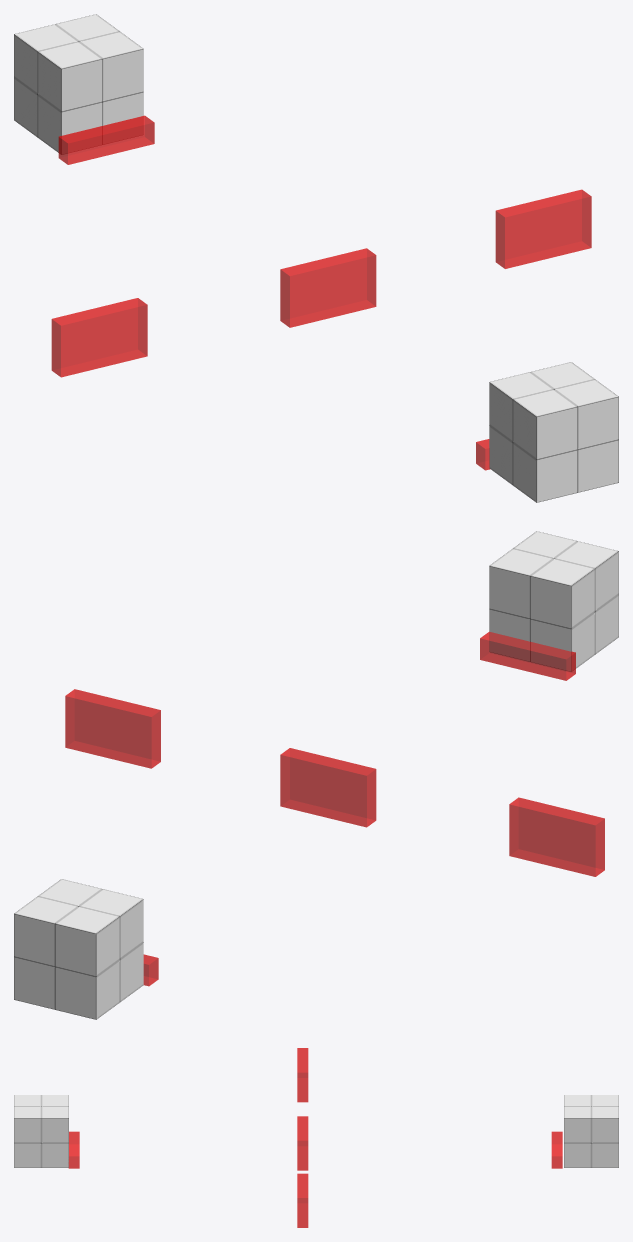
3 renders of one model, top to bottom at view 1: azimuth 30°, elevation 25°; view 2: azimuth 150°, elevation 25°; view 3: azimuth 270°, elevation 25°, orthographic. The views are drawn at different scales.
Parts seen in each view (by area): view 1: Plane/BasicEnvironment/StartCube-1, Plane/BasicEnvironment/StartCube-2, Plane/Setting1/BlockingCube, Plane/Setting1/BlockingCube (2), Plane/Setting1/BlockingCube (1), Plane/Setting1/StartBlocker-1; view 2: Plane/BasicEnvironment/StartCube-2, Plane/BasicEnvironment/StartCube-1, Plane/Setting1/BlockingCube, Plane/Setting1/BlockingCube (2), Plane/Setting1/BlockingCube (1), Plane/Setting1/StartBlocker-2; view 3: Plane/BasicEnvironment/StartCube-1, Plane/BasicEnvironment/StartCube-2, Plane/Setting1/BlockingCube, Plane/Setting1/BlockingCube (2), Plane/Setting1/BlockingCube (1), Plane/Setting1/StartBlocker-1, Plane/Setting1/StartBlocker-2.
Part boxes in pixels (box(x1,y1,x2,y2)): Plane/BasicEnvironment/StartCube-1: box(489, 362, 618, 502); Plane/BasicEnvironment/StartCube-2: box(14, 14, 143, 154); Plane/Setting1/BlockingCube: box(280, 248, 376, 327); Plane/Setting1/BlockingCube (2): box(51, 298, 147, 377); Plane/Setting1/BlockingCube (1): box(495, 189, 591, 268); Plane/Setting1/StartBlocker-1: box(58, 115, 154, 164); Plane/BasicEnvironment/StartCube-2: box(14, 879, 143, 1019); Plane/BasicEnvironment/StartCube-1: box(489, 531, 618, 671); Plane/Setting1/BlockingCube: box(280, 748, 376, 827); Plane/Setting1/BlockingCube (2): box(509, 797, 604, 876); Plane/Setting1/BlockingCube (1): box(65, 689, 160, 768); Plane/Setting1/StartBlocker-2: box(480, 632, 575, 680); Plane/BasicEnvironment/StartCube-1: box(14, 1095, 68, 1167); Plane/BasicEnvironment/StartCube-2: box(564, 1095, 618, 1167); Plane/Setting1/BlockingCube: box(297, 1116, 308, 1170); Plane/Setting1/BlockingCube (2): box(297, 1048, 308, 1102); Plane/Setting1/BlockingCube (1): box(297, 1173, 308, 1227); Plane/Setting1/StartBlocker-1: box(551, 1131, 562, 1168); Plane/Setting1/StartBlocker-2: box(68, 1131, 79, 1168).
Bounding box in the file's own units: 1.29 × 0.2085 × 2.2.
